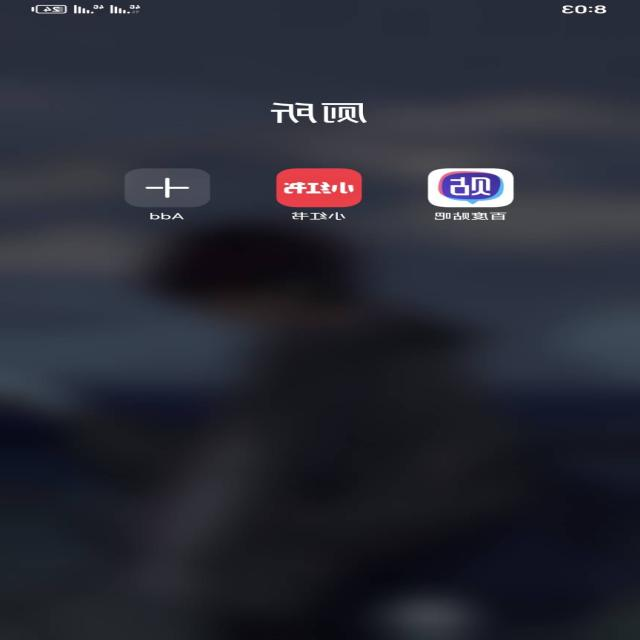Icon: (428, 168, 514, 207), (276, 169, 362, 207), (126, 169, 209, 208)
